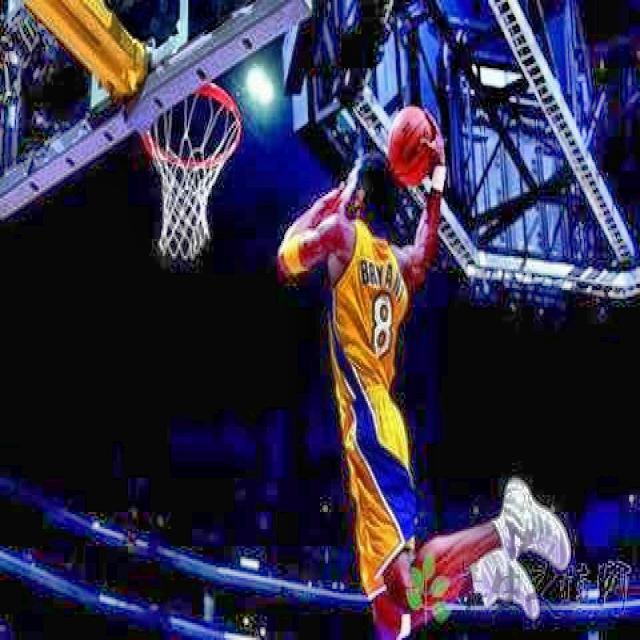rim: (142, 80, 242, 261)
